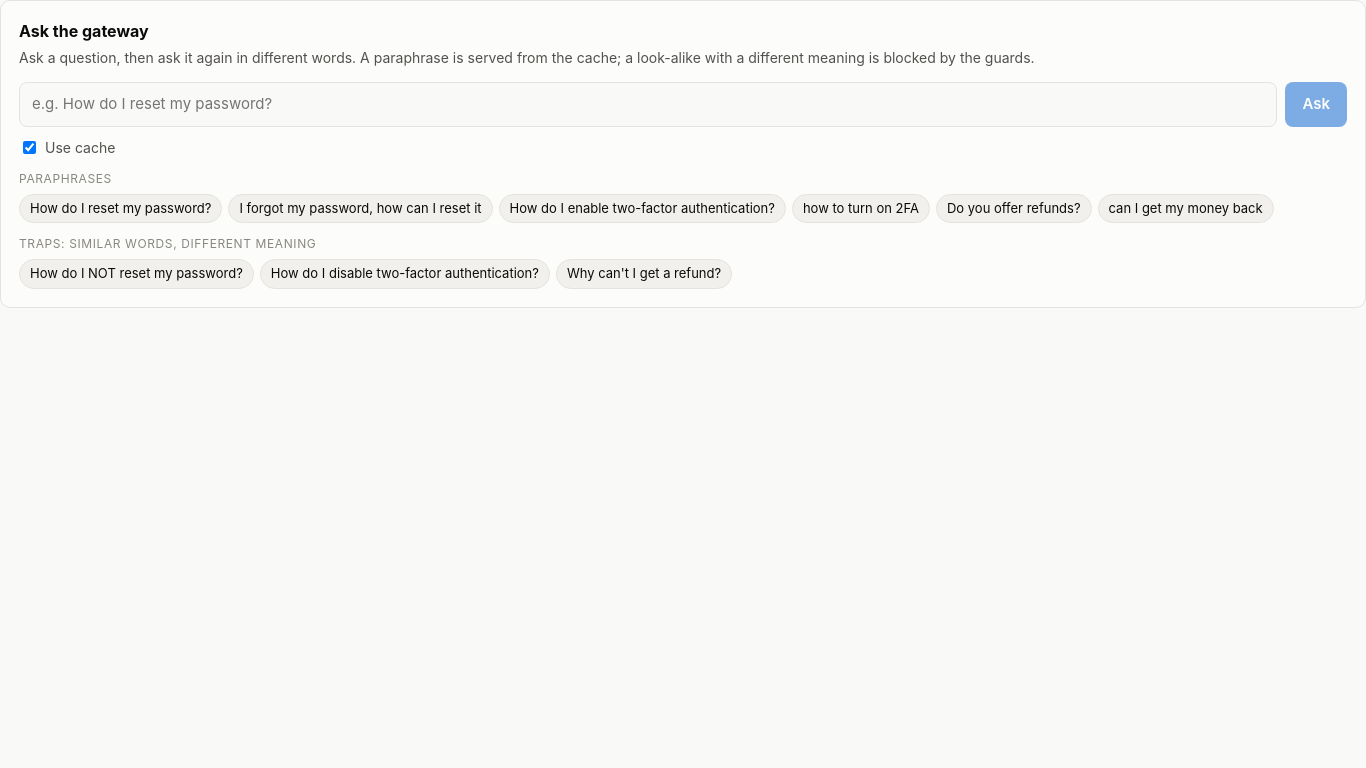
Test: QueryPlayground › explains a guard veto
Click the button "How do I NOT reset my password?" at (136, 274), box left=19, top=259, right=254, bottom=288
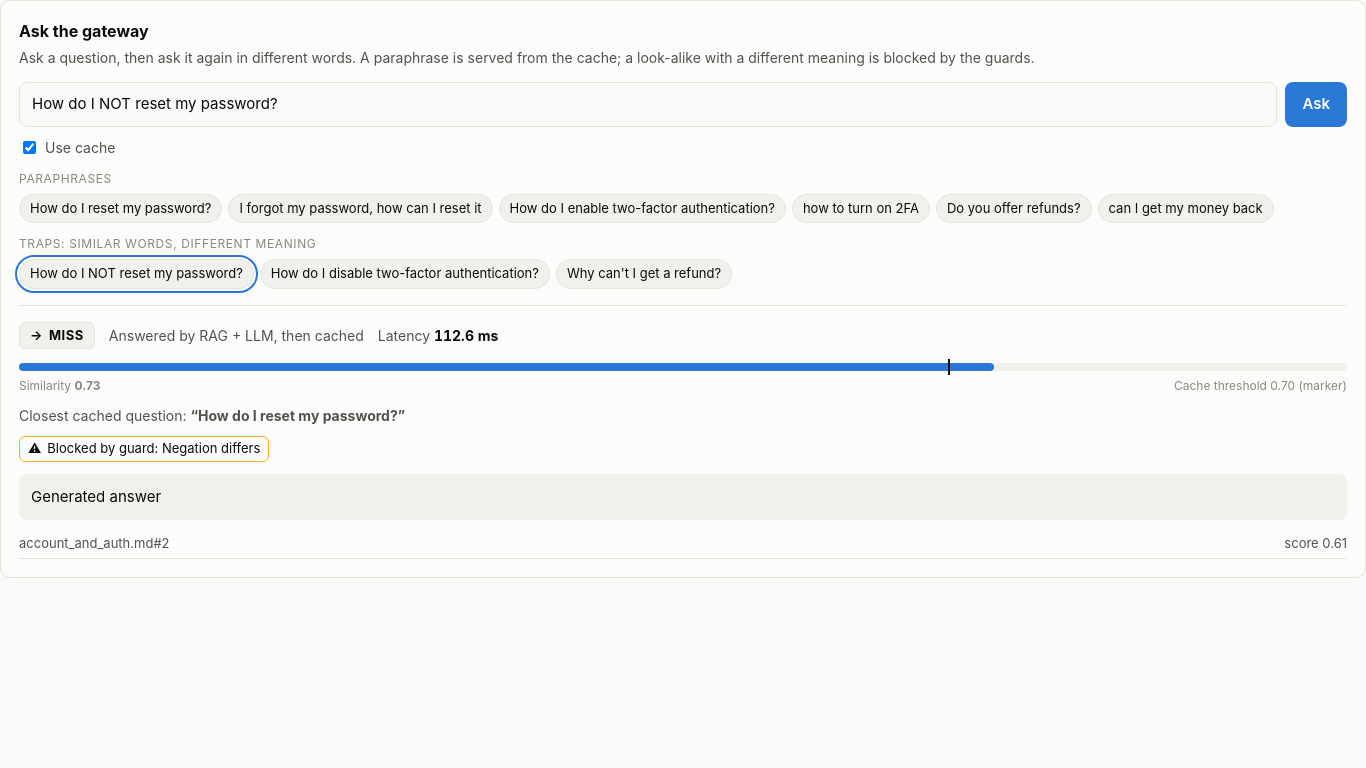
Check: the text "MISS" is shown, box left=49, top=326, right=84, bottom=342
Check: the text "⚠ Blocked by guard: Negation differs" is shown, box left=19, top=436, right=269, bottom=462
Check: the text "account_and_auth.md#2" is shown, box left=19, top=534, right=170, bottom=554
